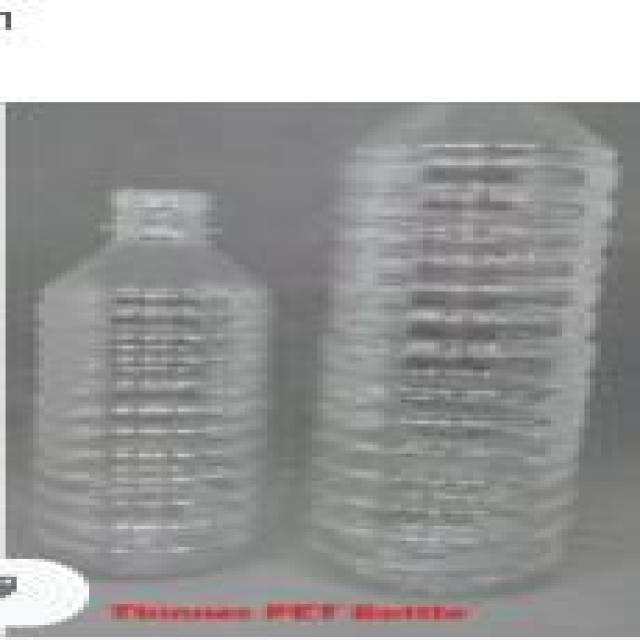bottle: (300, 90, 618, 613), (28, 180, 284, 589)
